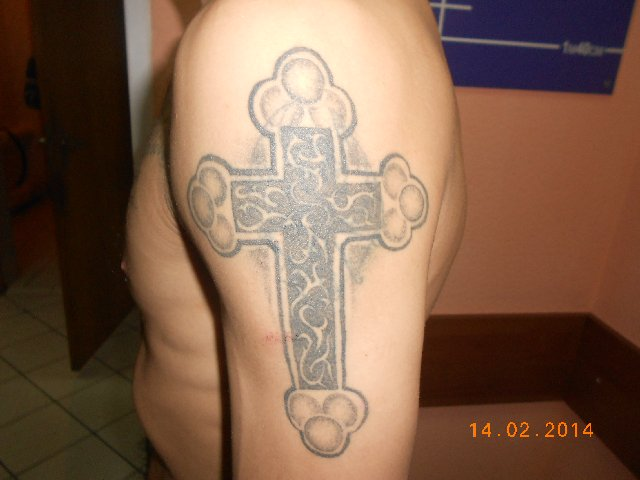tatu9_krest: (179, 34, 439, 468)
